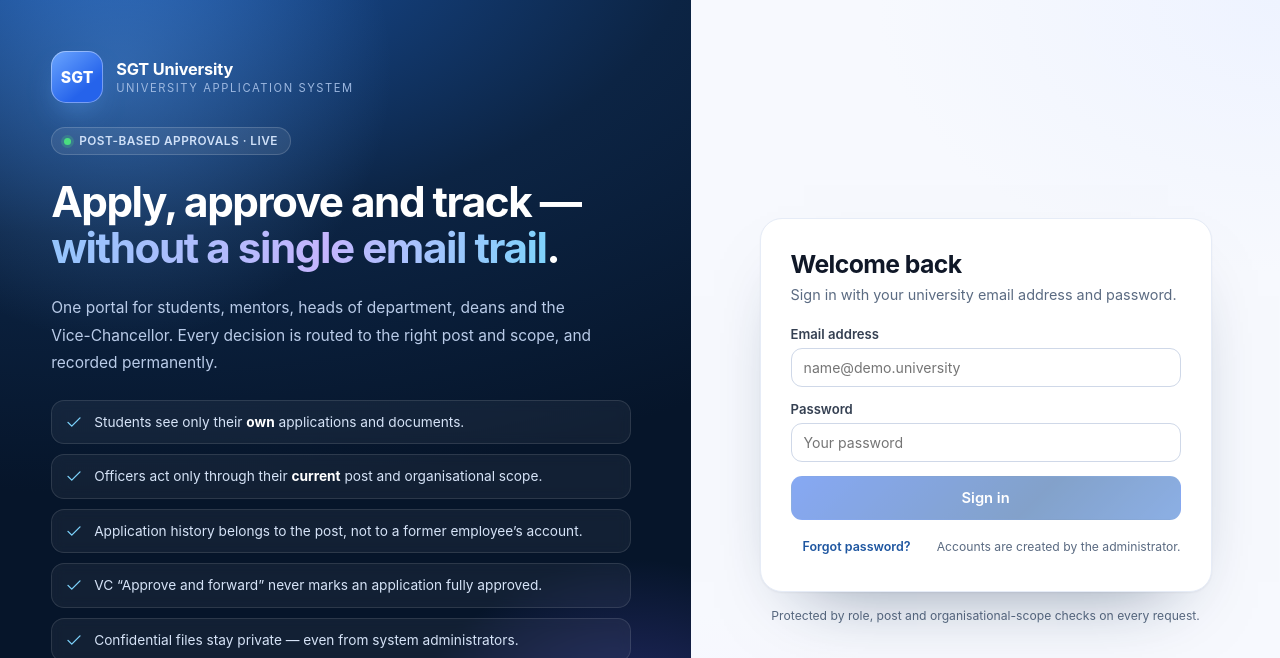
Test: student self-service account changes › a student can change their username on the profile page and sign in with it
In the field with id "email": (986, 367) [791, 348, 1181, 387], type "student.c@demo.university"
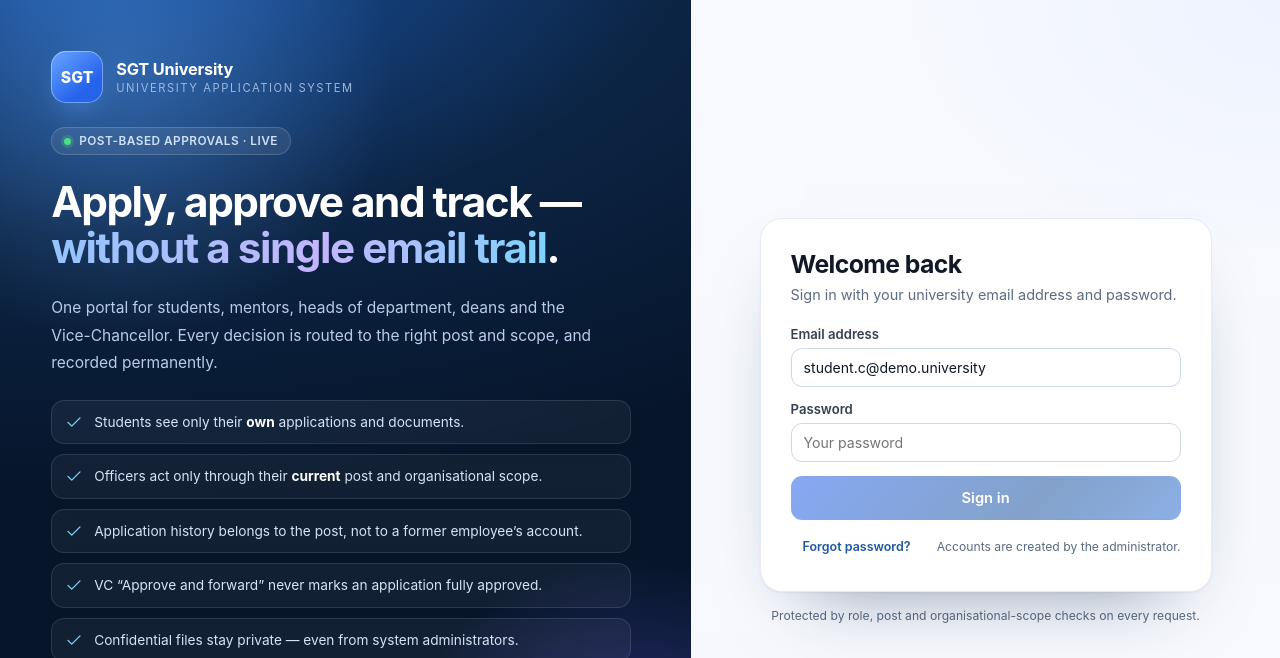
In the password field labelled "Password": (986, 442) [791, 423, 1181, 462], type "Demo@12345"
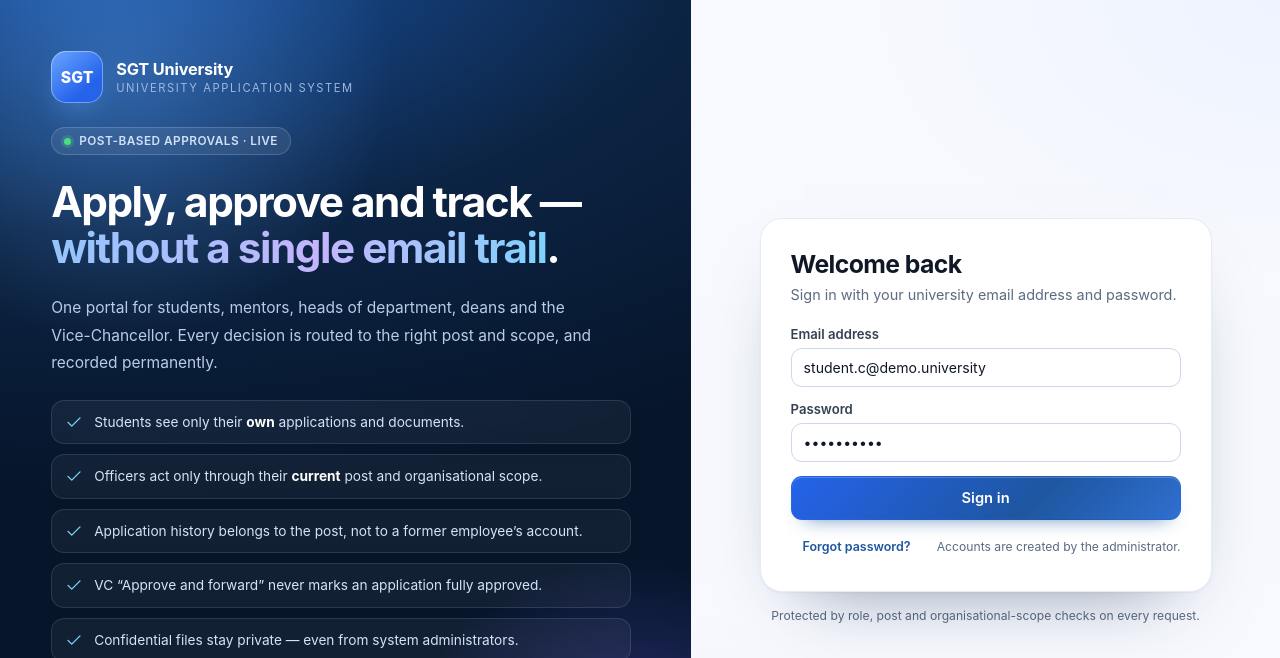
Click the submit button: (986, 498) [791, 476, 1181, 520]
(page scrolled)
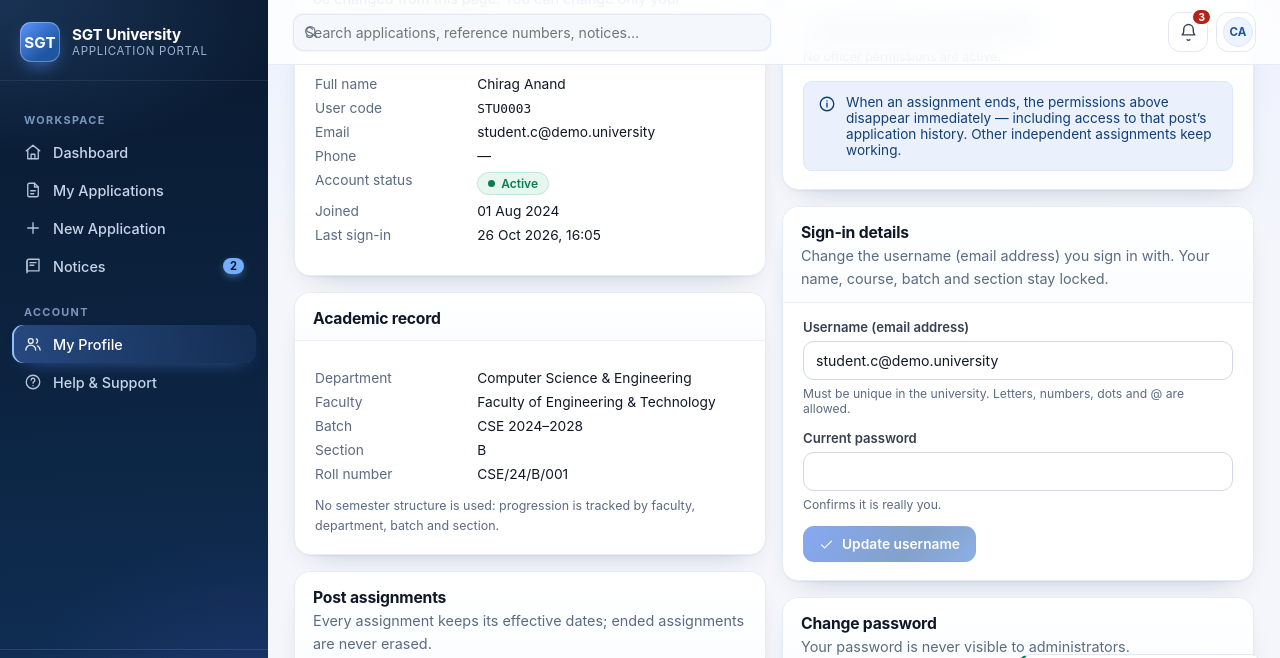
Now the field labelled "Username (email address)" is shown
Replace the text in the field labelled "Username (email address)" with "chirag.updated@demo.university": (1018, 361) [803, 341, 1233, 380]
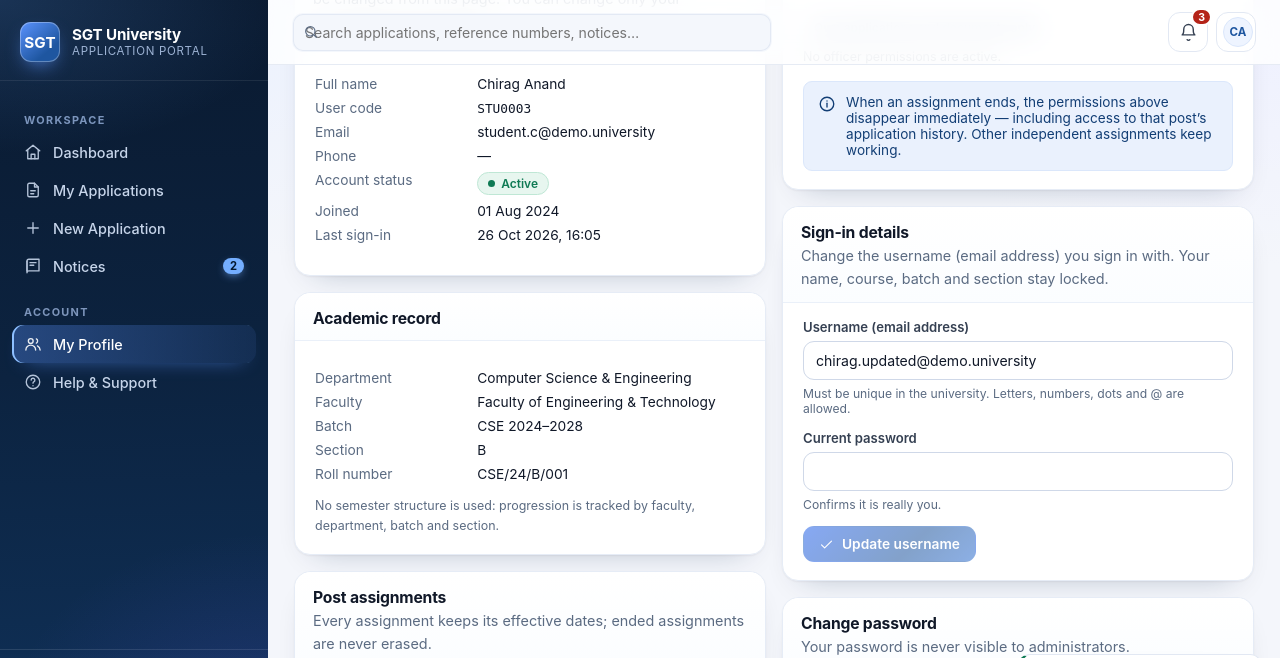
Now the password field with id "username-password" is shown
In the password field with id "username-password": (1018, 472) [803, 452, 1233, 491], type "Demo@12345"
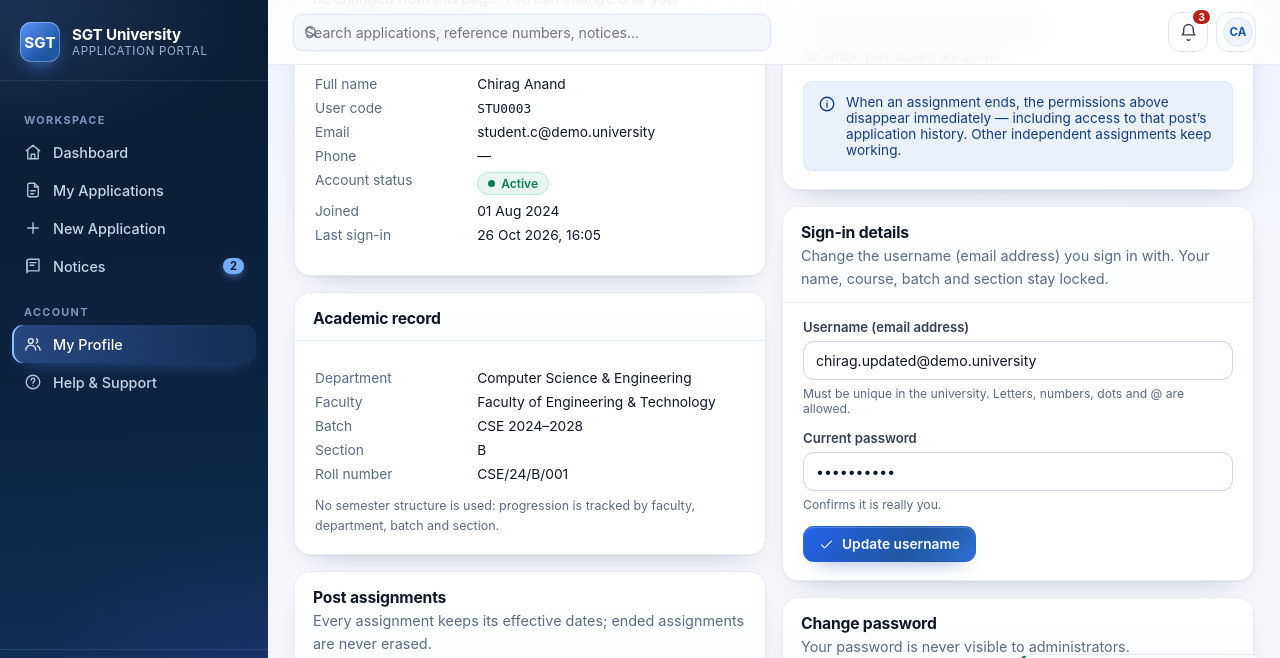
Click the button "Update username": (890, 544) [803, 526, 976, 562]
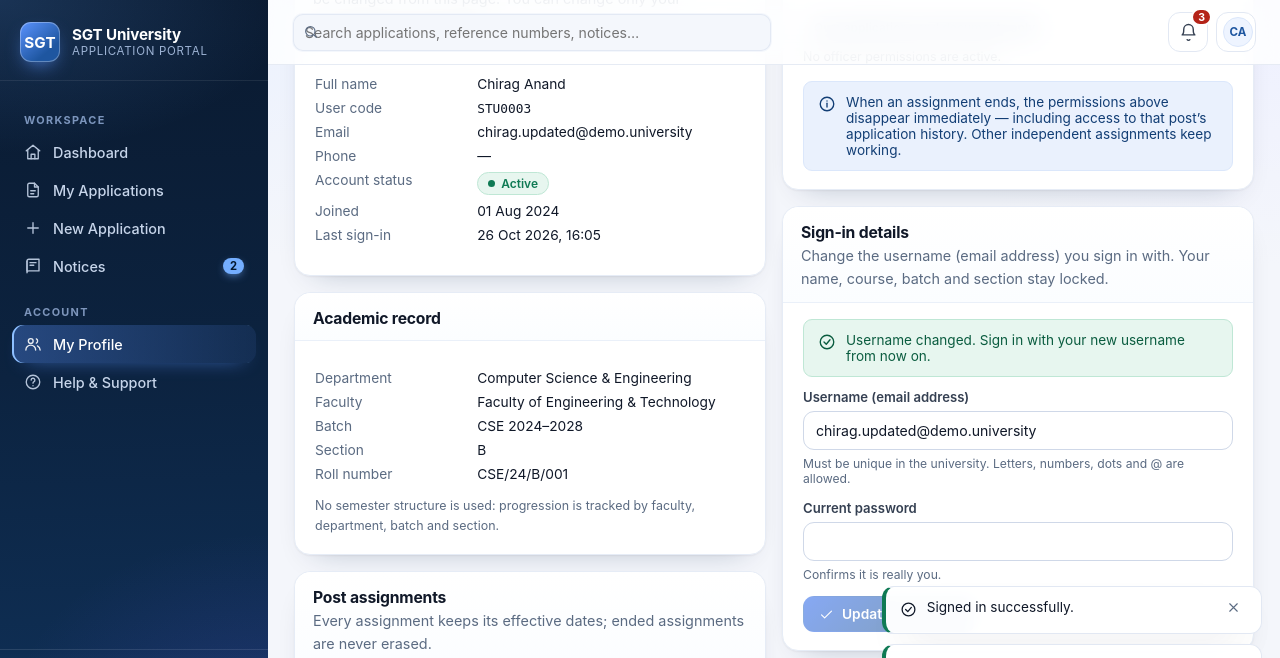
Now the text "Username changed" is shown, box [846, 332, 1185, 364]
